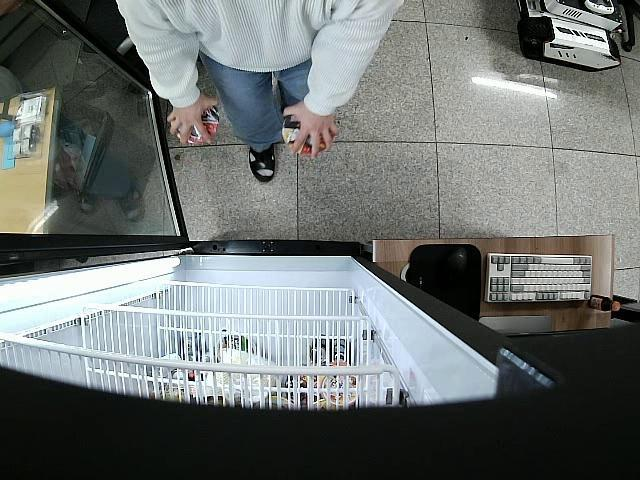07_buldak_L: (282, 113, 333, 154), (173, 100, 218, 144)
